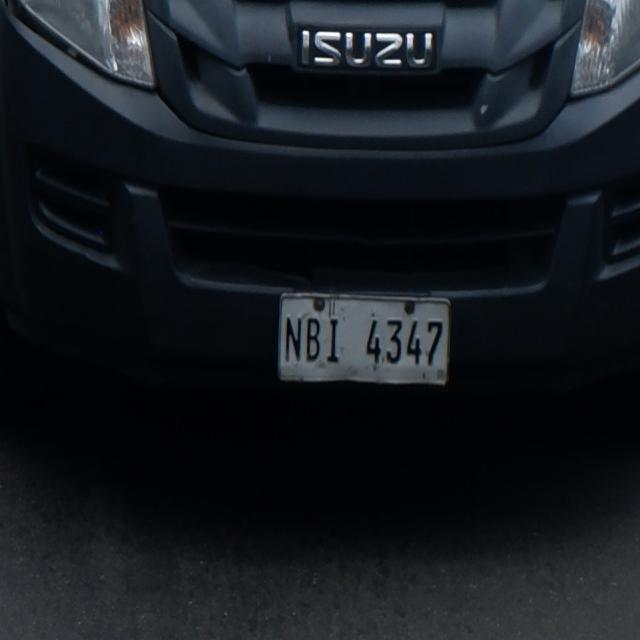LicensePlate: (265, 283, 460, 395)
